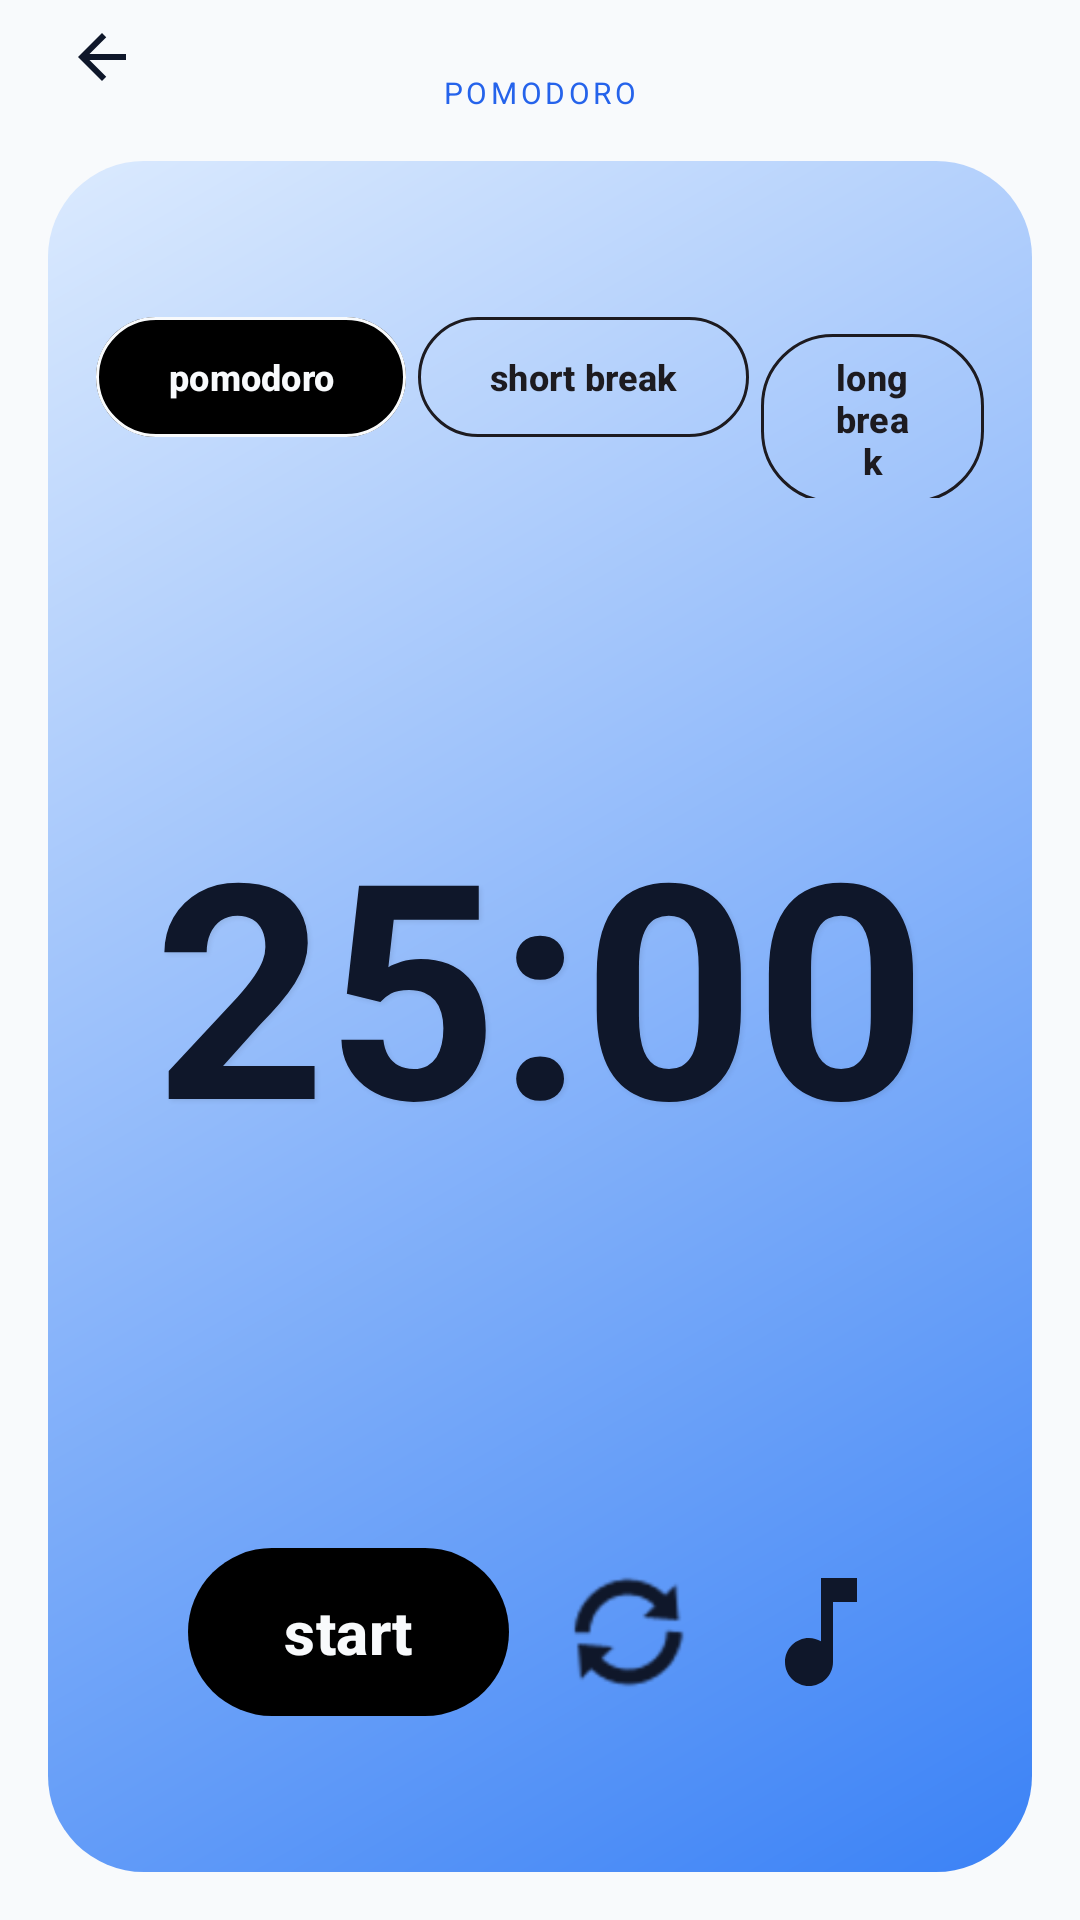

Screen size 1080×1920. Icon name, then its box in pixels as (x1, y1, x2, y2):
arrow back: (78, 33, 126, 81)
music note: (785, 1578, 857, 1686)
popup sync: (574, 1578, 684, 1687)
